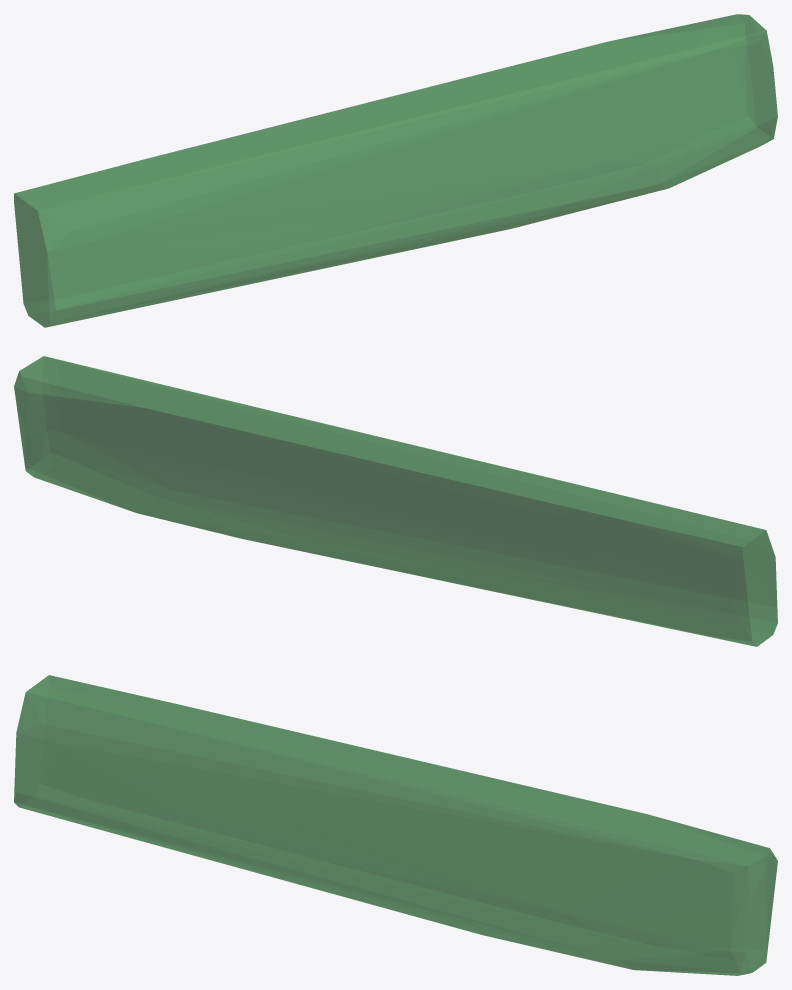
3 renders of one model, top to bottom at view 1: azimuth 30°, elevation 25°; view 2: azimuth 150°, elevation 25°; view 3: azimuth 330°, elevation 25°, orthographic.
Visible parts, largest first — view 1: Shape_IndexedFaceSet.003_Shape_IndexedFaceSet.5654; view 2: Shape_IndexedFaceSet.003_Shape_IndexedFaceSet.5654; view 3: Shape_IndexedFaceSet.003_Shape_IndexedFaceSet.5654.
Part boxes in pixels (left/top/right/bottom): Shape_IndexedFaceSet.003_Shape_IndexedFaceSet.5654: left=14, top=14, right=777, bottom=327; Shape_IndexedFaceSet.003_Shape_IndexedFaceSet.5654: left=14, top=356, right=777, bottom=646; Shape_IndexedFaceSet.003_Shape_IndexedFaceSet.5654: left=14, top=675, right=777, bottom=975.
Bounding box in the file's own units: 0.7668 × 0.1285 × 0.0814.
